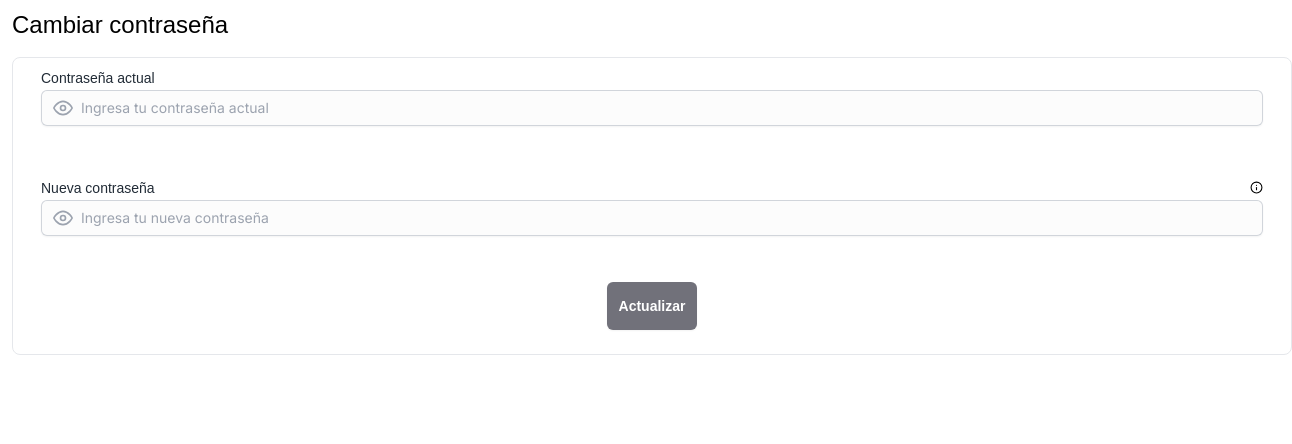
Test case: <ChangePasswordSection /> › handles API error and displays appropriate error alert
# Fill out the form
In the password field labelled "Contraseña actual": point(652, 108) [41,90,1263,126], type "oldPassword"
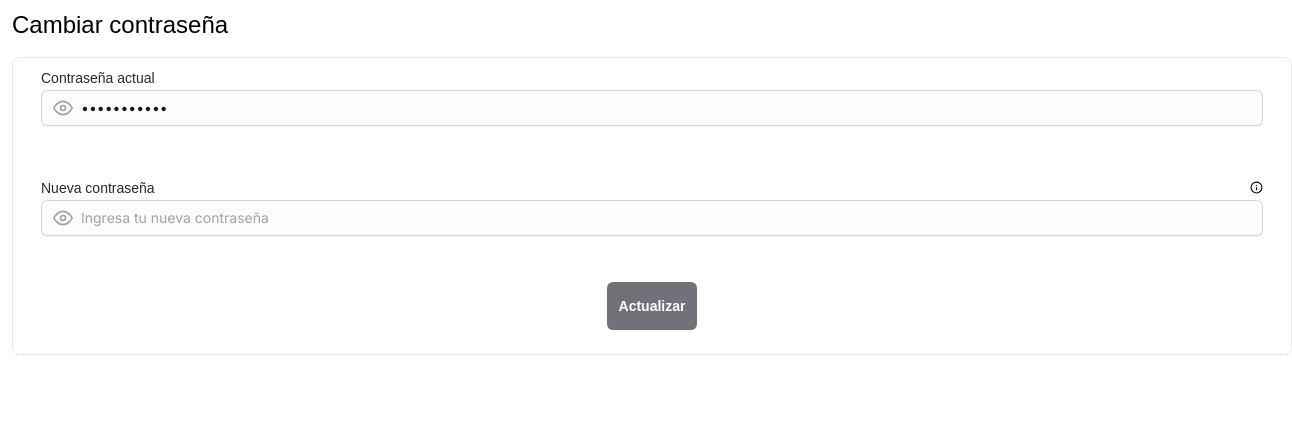
In the password field labelled "Nueva contraseña": point(652, 218) [41,200,1263,236], type "NewPassword123!"
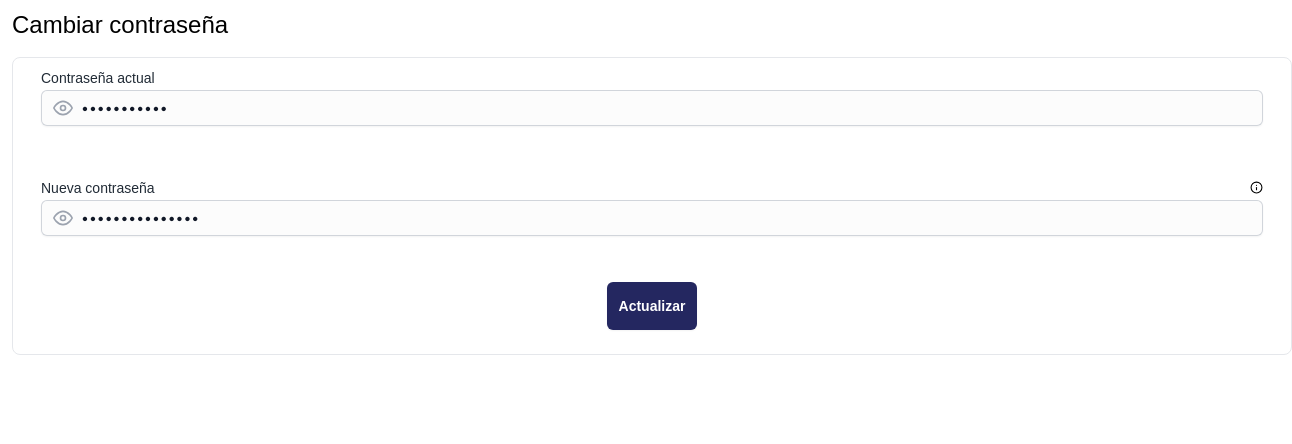
Click the button "Actualizar": point(652, 306) [606,282,697,330]
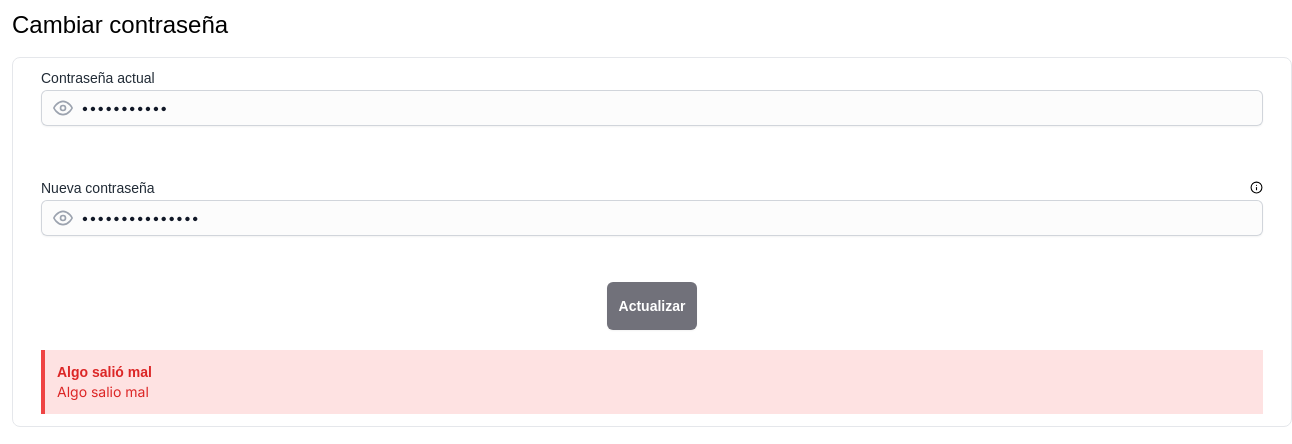
expect the message shows "Algo salió mal": met, box [57,364,152,380]
